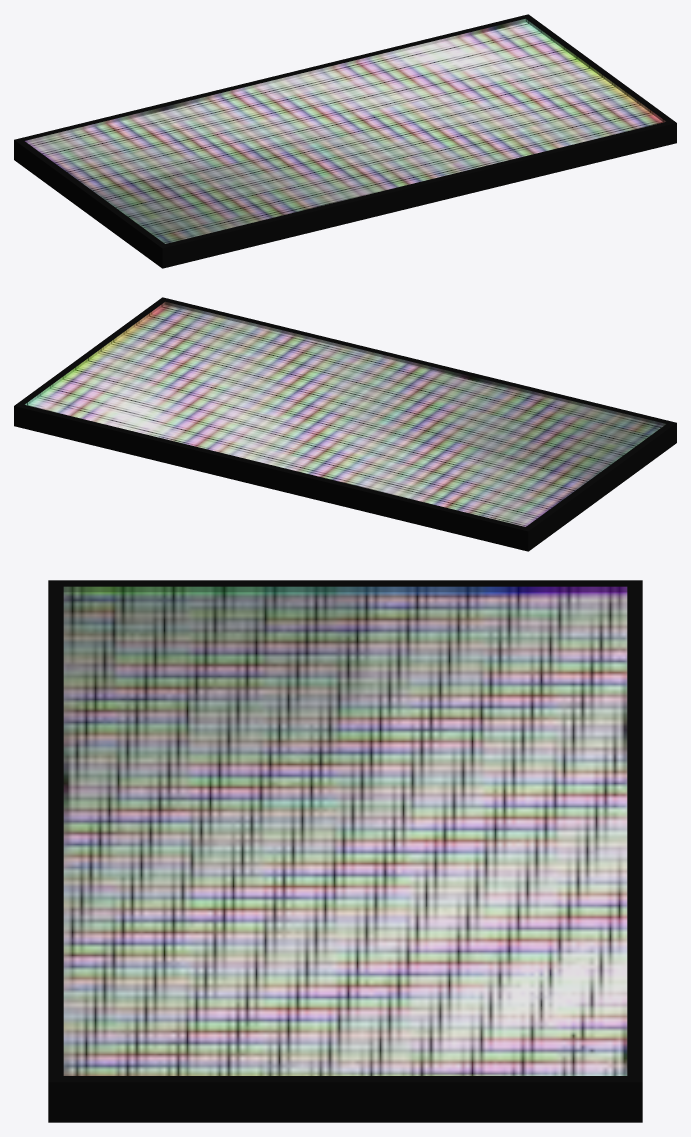
Rendered from TVScreen.fbx.
3 views of the same model, one above another, from view 1: azimuth 30°, elevation 25°; view 2: azimuth 150°, elevation 25°; view 3: azimuth 270°, elevation 25° (orthographic). The views are drawn at different scales.
Visible parts, largest first — view 1: Cube; view 2: Cube; view 3: Cube.
Boxes of the visible parts, bbox=[...] form: Cube: bbox=[14, 14, 676, 268]; Cube: bbox=[14, 297, 676, 551]; Cube: bbox=[48, 580, 642, 1122].
Size of the model in its own units: 400 by 15 by 200.
Materials: 2 (1 with a texture image).
